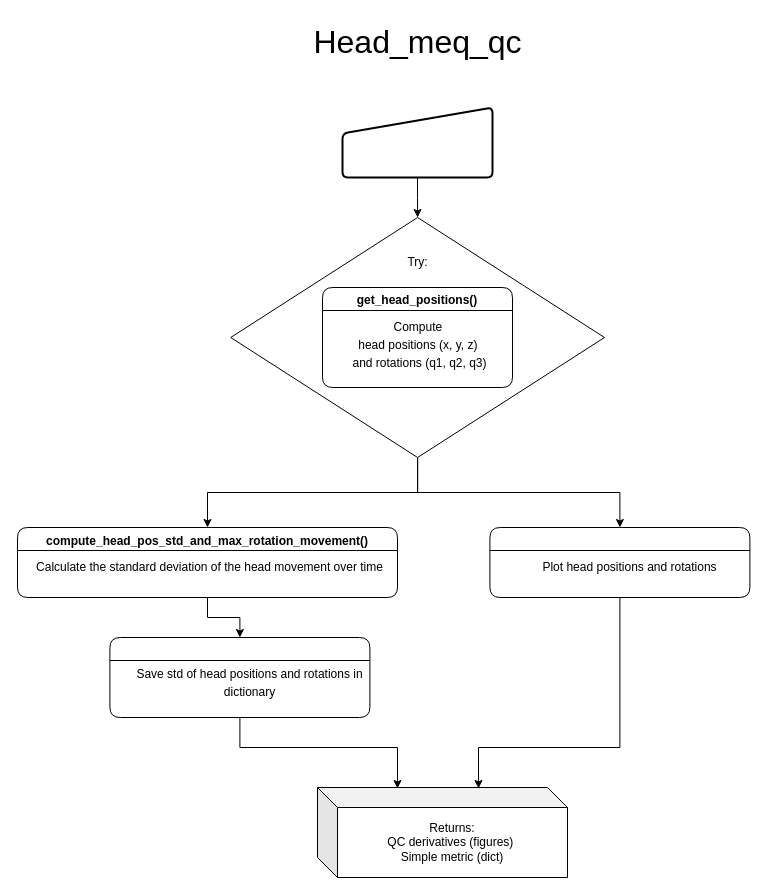
Some shapes in this 775 by 895 pixel diagram are drawn without their labels. Here are the shapes that lost their labels. From the top down, the centre of each, then its label:
the point at 417,142: Input: Raw data
the point at 619,562: make_head_pos_plot()
the point at 239,677: make_simple_metric_head()
